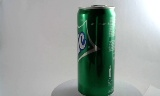sprite: (70, 3, 109, 95)
